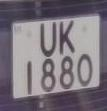0: (75, 51, 95, 92)
1: (22, 57, 38, 99)
8: (38, 56, 59, 96), (57, 54, 76, 93)
K: (58, 16, 76, 58)
U: (37, 18, 59, 61)
